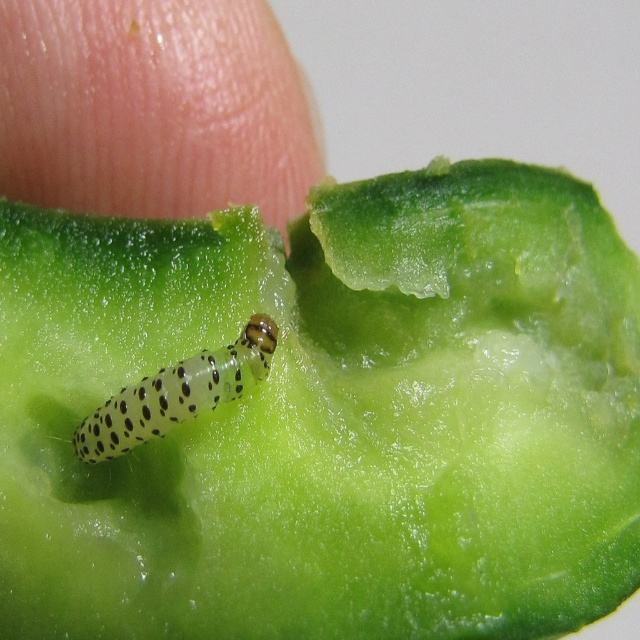Caterpillar: (67, 313, 283, 488)
